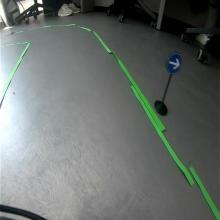right: (166, 52, 182, 75)
